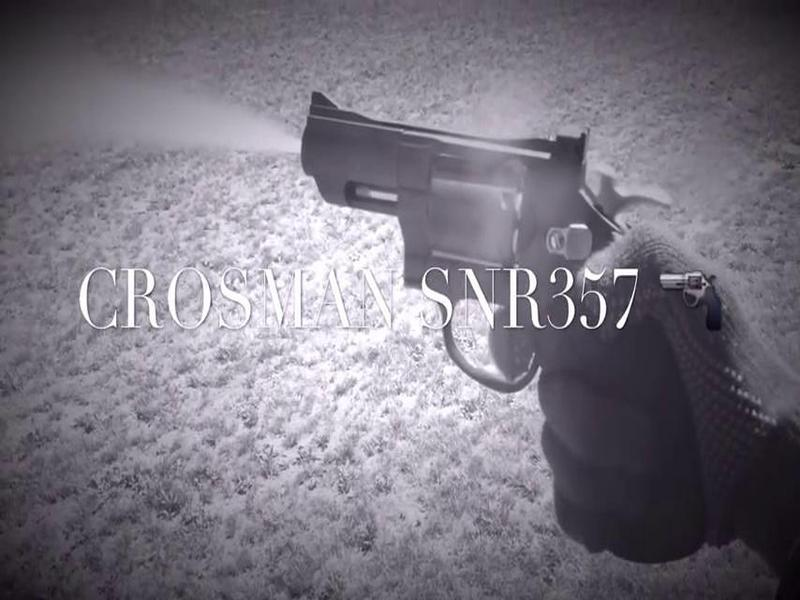Revolver: (284, 66, 666, 393)
